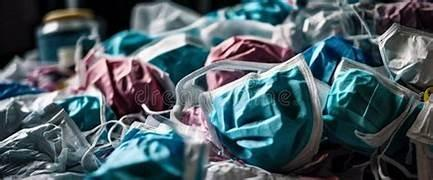Mask: (171, 54, 321, 171), (323, 60, 416, 153), (87, 119, 205, 178), (0, 104, 88, 176), (82, 48, 172, 115), (272, 4, 362, 52), (145, 115, 213, 178), (20, 104, 88, 166), (0, 92, 100, 130), (303, 36, 378, 84), (136, 34, 208, 83), (0, 124, 66, 177), (377, 102, 423, 178), (379, 24, 432, 89), (297, 138, 371, 179), (179, 107, 227, 160), (205, 160, 337, 179), (0, 93, 53, 139), (206, 36, 293, 64), (131, 2, 198, 35), (407, 96, 432, 179), (206, 0, 292, 24), (373, 0, 432, 33), (200, 20, 273, 45), (55, 95, 100, 130), (150, 17, 218, 39), (205, 161, 277, 179), (0, 91, 63, 111), (103, 30, 152, 55), (271, 22, 309, 52), (27, 65, 72, 90), (0, 101, 29, 139), (0, 56, 39, 80), (0, 82, 42, 99), (288, 0, 371, 8), (314, 79, 329, 109), (23, 172, 84, 179)
